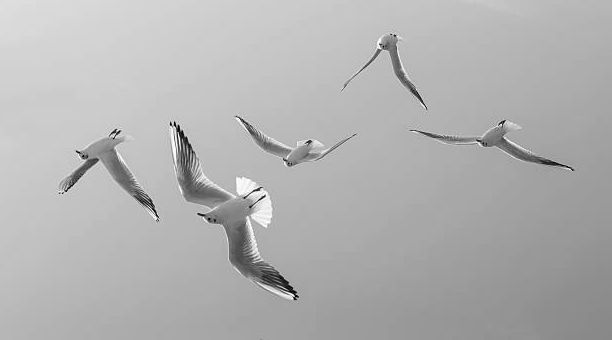Bird: (167, 118, 298, 302), (53, 127, 165, 224), (402, 120, 579, 176), (337, 29, 430, 113), (234, 111, 362, 170)
